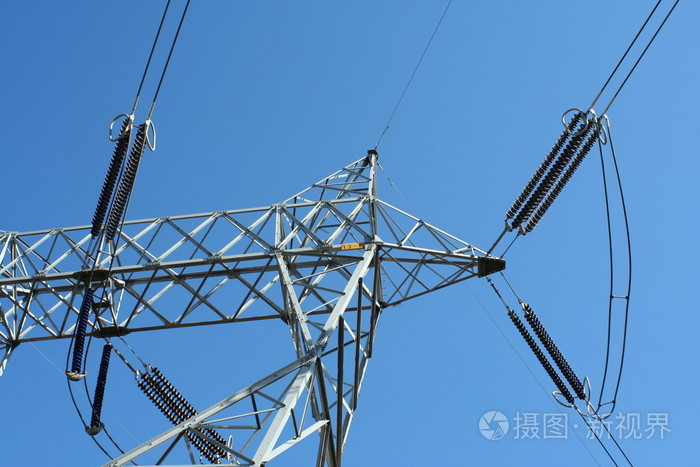insulator: (508, 114, 600, 233), (137, 368, 228, 462), (510, 305, 588, 405), (92, 119, 151, 241), (68, 287, 95, 372), (90, 345, 114, 427)
